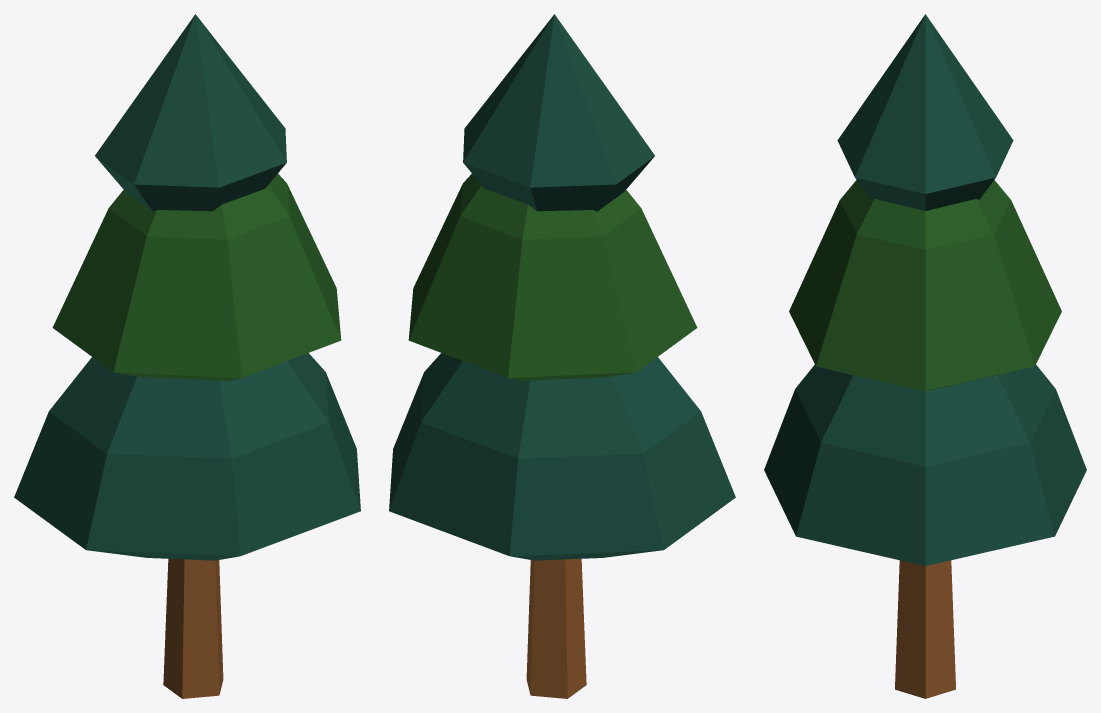
Rendered from tree.fbx.
The picture shows the model from 3 angles, left to right: view 1: azimuth 30°, elevation 25°; view 2: azimuth 150°, elevation 25°; view 3: azimuth 270°, elevation 25°; orthographic projection.
Visible parts, largest first — view 1: tree; view 2: tree; view 3: tree.
Boxes of the visible parts, x1,y1,x2,y2 form: tree: (14,14,360,698); tree: (389,14,735,698); tree: (764,14,1086,698).
Size of the model in its own units: 0.9885 by 2.07 by 0.9024.
